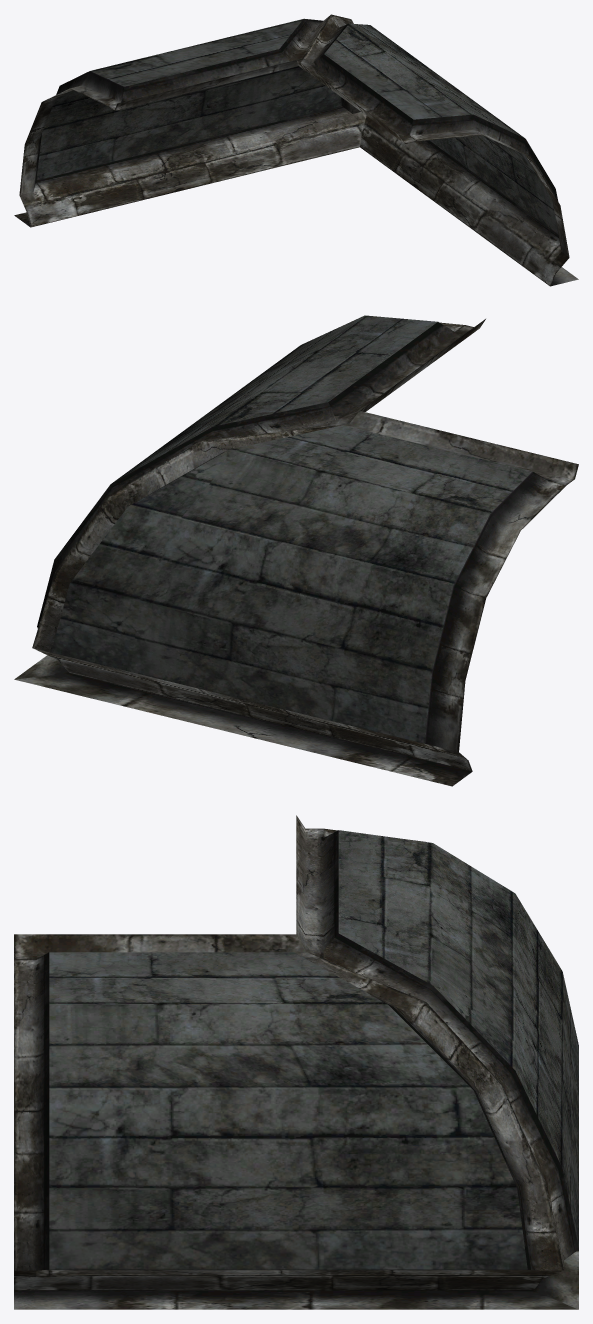
File: ceiling_corner_concave_alt.dae
The picture shows the model from 3 angles, top to bottom: view 1: azimuth 30°, elevation 25°; view 2: azimuth 150°, elevation 25°; view 3: azimuth 270°, elevation 25°; orthographic projection. The views are drawn at different scales.
Visible parts, largest first — view 1: polySurface1; view 2: polySurface1; view 3: polySurface1.
Part boxes in pixels (x1,y1,x2,y2): polySurface1: (14, 14, 578, 286); polySurface1: (14, 315, 578, 786); polySurface1: (14, 815, 578, 1309).
Size of the model in its own units: 4 by 2 by 4.
